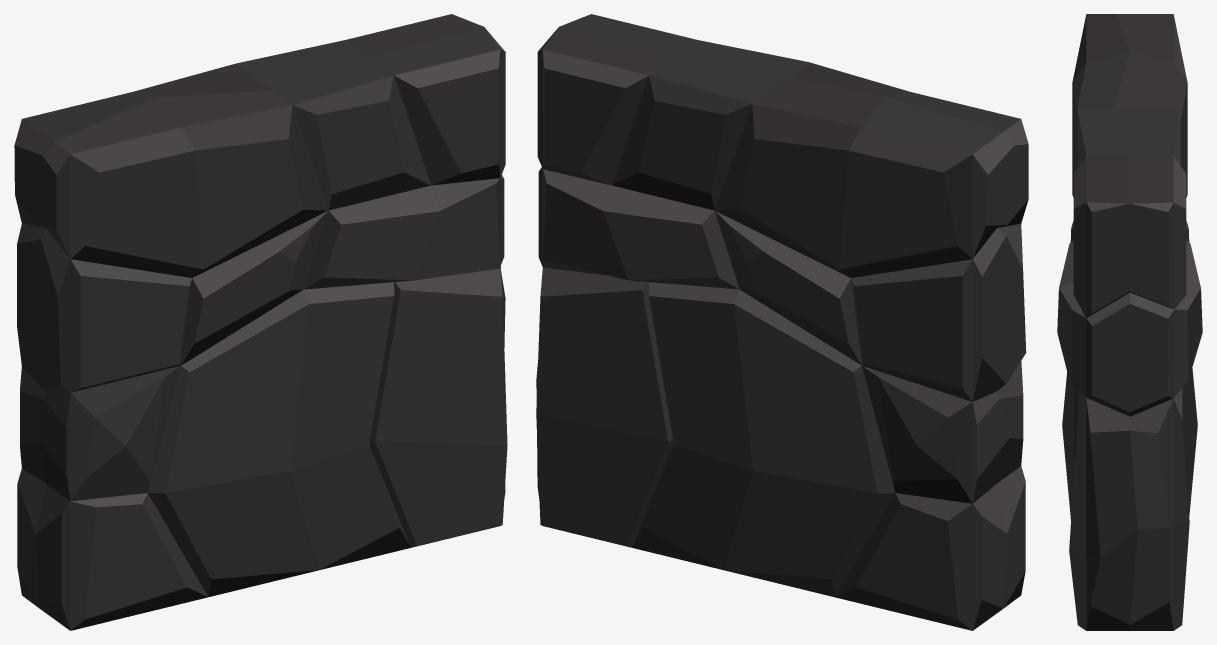
File: Wall_Stone_Small.glb
The picture shows the model from 3 angles, left to right: view 1: azimuth 30°, elevation 25°; view 2: azimuth 150°, elevation 25°; view 3: azimuth 270°, elevation 25°; orthographic projection. The views are drawn at different scales.
Parts seen in each view (by area): view 1: Wall_Stone_Small; view 2: Wall_Stone_Small; view 3: Wall_Stone_Small.
Boxes of the visible parts, bbox=[...] form: Wall_Stone_Small: bbox=[14, 14, 507, 630]; Wall_Stone_Small: bbox=[536, 14, 1028, 630]; Wall_Stone_Small: bbox=[1057, 14, 1202, 630].
Size of what is drawn, in the model's own units: 1 by 1 by 0.3.
Materials: 1 (1 with a texture image).
